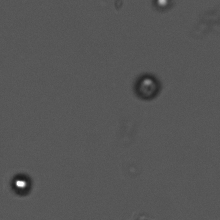Dead Cell: (134, 73, 160, 101)
Living Cell: (10, 171, 34, 197), (153, 1, 172, 10)
